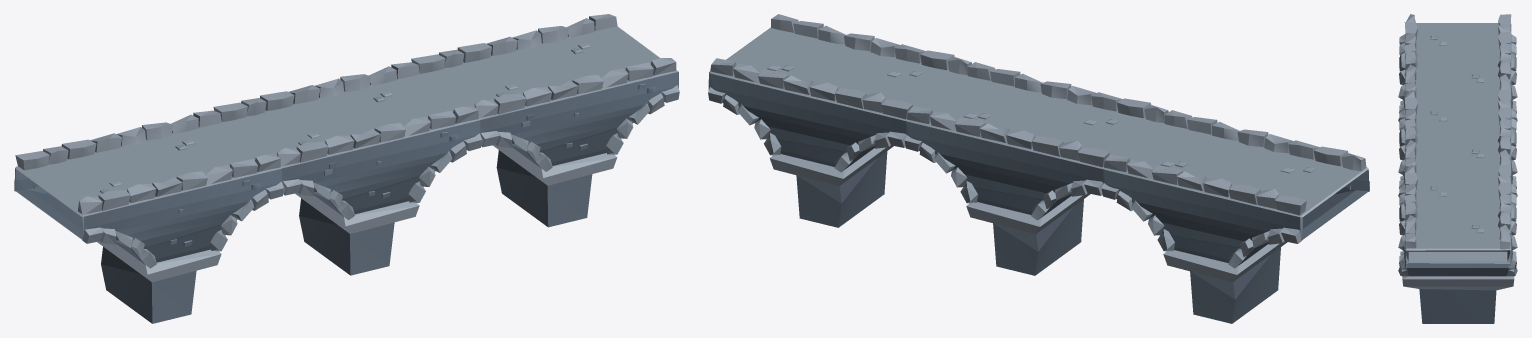
File: Bridge_1 1.fbx
3 renders of one model, left to right at view 1: azimuth 30°, elevation 25°; view 2: azimuth 150°, elevation 25°; view 3: azimuth 270°, elevation 25°, orthographic. The views are drawn at different scales.
Parts seen in each view (by area): view 1: Bridge; view 2: Bridge; view 3: Bridge.
Boxes of the visible parts, <box> form: Bridge: <box>14,14,679,323</box>; Bridge: <box>708,14,1369,323</box>; Bridge: <box>1398,14,1517,323</box>.
Bounding box in the file's own units: 1328 × 317 × 296.
